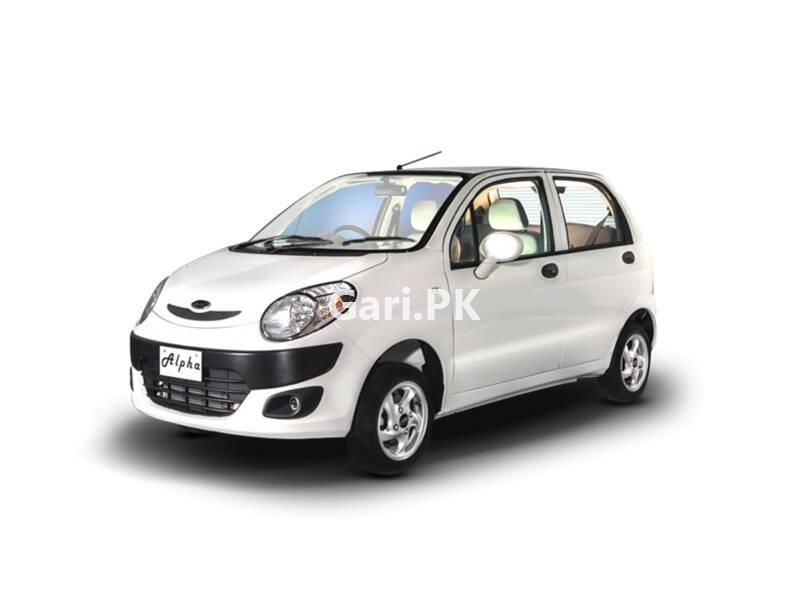Hatchback: (107, 130, 687, 503)
